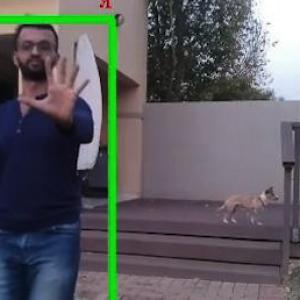follow_hand: (19, 50, 93, 121)
